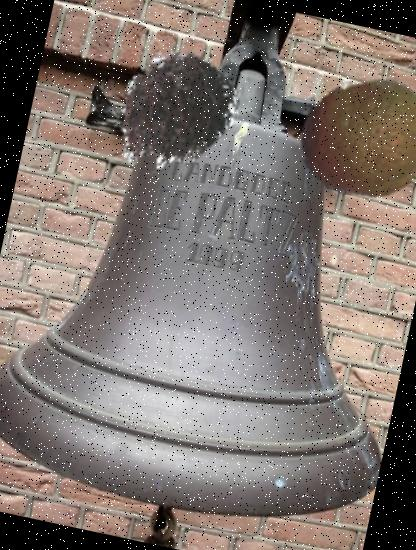Mandarine: (284, 57, 416, 221)
Rambutan: (92, 34, 250, 192)
